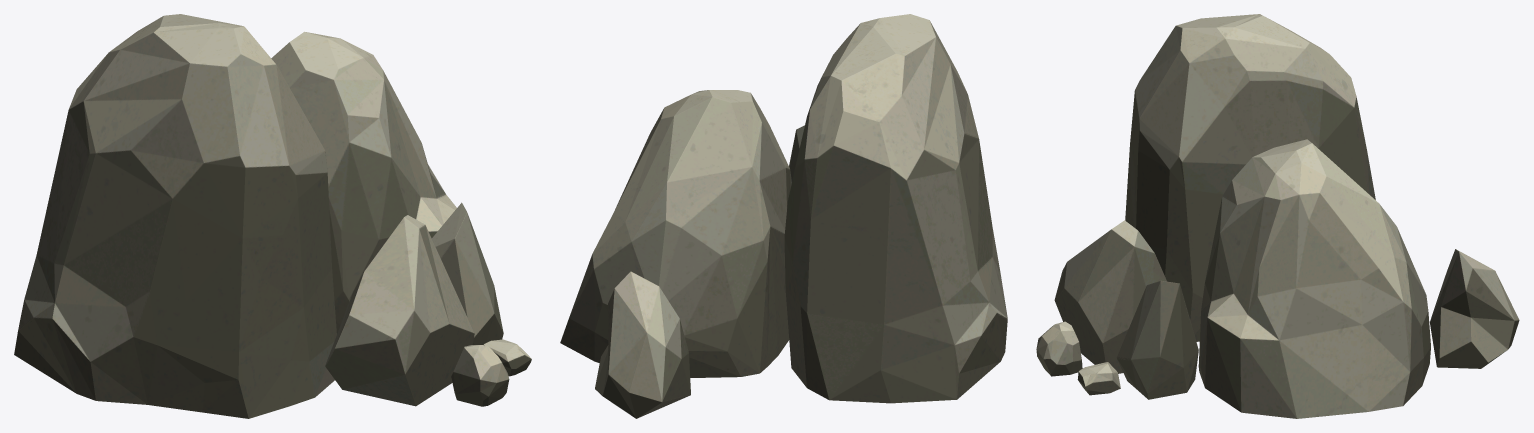
File: rocks 1.fbx
3 renders of one model, left to right at view 1: azimuth 30°, elevation 25°; view 2: azimuth 150°, elevation 25°; view 3: azimuth 270°, elevation 25°, orthographic. The views are drawn at different scales.
Visible parts, largest first — view 1: node_id30; view 2: node_id30; view 3: node_id30.
Part boxes in pixels (box(x1,y1,x2,y2)): node_id30: box(14, 14, 531, 418); node_id30: box(560, 14, 1007, 418); node_id30: box(1036, 14, 1519, 418).
Size of the model in its own units: 0.5128 by 0.3846 by 0.6004.
1 material, 1 textured.
